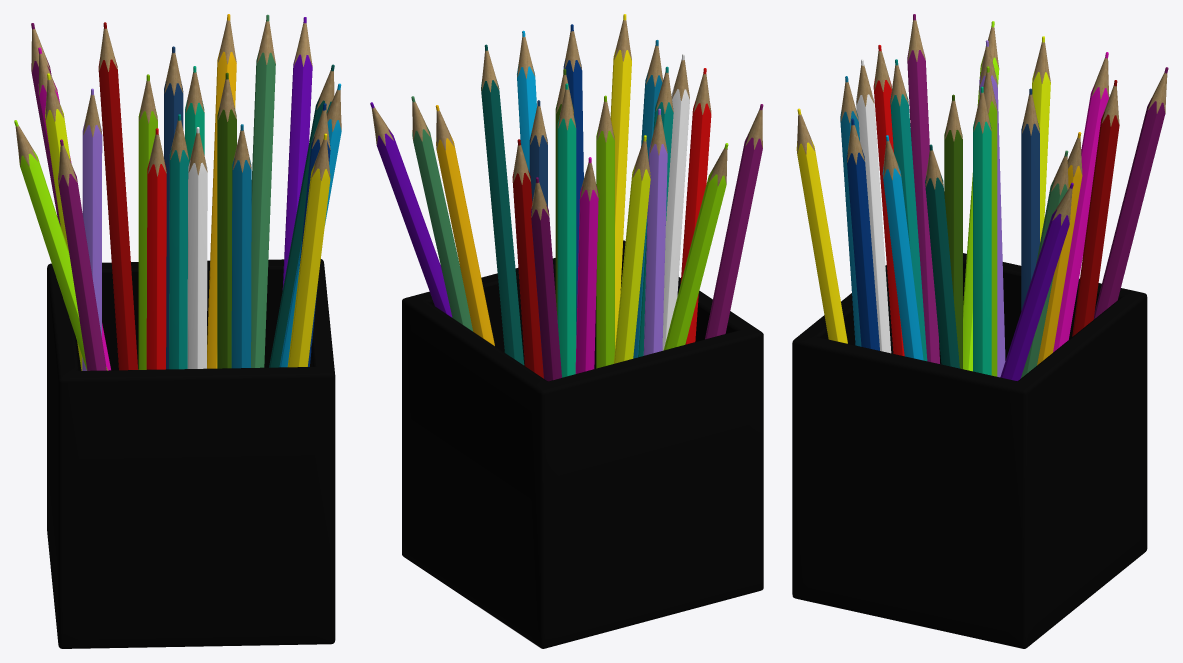
The model's file is colourpencils.fbx.
3 renders of one model, left to right at view 1: azimuth 30°, elevation 25°; view 2: azimuth 150°, elevation 25°; view 3: azimuth 270°, elevation 25°, orthographic. The views are drawn at different scales.
Visible parts, largest first — view 1: pencil_box, pencil_07, pencil_16, pencil_18, pencil_21, pencil_15, pencil_06, pencil_08, pencil_01, pencil_10, pencil_13, pencil_04 (+11 smaller); view 2: pencil_box, pencil_19, pencil_17, pencil_14, pencil_10, pencil_02, pencil_05, pencil_06, pencil_16, pencil_12, pencil_04, pencil_13 (+11 smaller); view 3: pencil_box, pencil_17, pencil_10, pencil_11, pencil_07, pencil_01, pencil_09, pencil_03, pencil_20, pencil_06, pencil_19, pencil_04 (+11 smaller).
Part boxes in pixels (left/top/right/bottom): pencil_box: left=47, top=259, right=335, bottom=648; pencil_07: left=98, top=22, right=138, bottom=370; pencil_16: left=251, top=14, right=275, bottom=367; pencil_18: left=169, top=114, right=188, bottom=369; pencil_21: left=231, top=124, right=251, bottom=368; pencil_15: left=217, top=72, right=236, bottom=368; pencil_06: left=187, top=127, right=207, bottom=368; pencil_08: left=146, top=128, right=166, bottom=369; pencil_01: left=287, top=133, right=330, bottom=367; pencil_10: left=58, top=139, right=106, bottom=370; pencil_13: left=14, top=120, right=107, bottom=370; pencil_04: left=282, top=17, right=312, bottom=289; pencil_box: left=402, top=240, right=763, bottom=648; pencil_19: left=481, top=44, right=524, bottom=365; pencil_17: left=557, top=83, right=576, bottom=377; pencil_14: left=596, top=95, right=614, bottom=368; pencil_10: left=705, top=104, right=763, bottom=339; pencil_02: left=643, top=108, right=667, bottom=355; pencil_05: left=435, top=105, right=494, bottom=345; pencil_06: left=662, top=54, right=689, bottom=350; pencil_16: left=411, top=96, right=472, bottom=331; pencil_12: left=613, top=135, right=650, bottom=363; pencil_04: left=370, top=102, right=452, bottom=317; pencil_13: left=663, top=143, right=728, bottom=350; pencil_box: left=792, top=253, right=1147, bottom=648; pencil_17: left=973, top=86, right=991, bottom=375; pencil_10: left=907, top=14, right=939, bottom=363; pencil_11: left=1093, top=67, right=1168, bottom=319; pencil_07: left=1072, top=80, right=1119, bottom=336; pencil_01: left=796, top=108, right=847, bottom=343; pencil_09: left=1053, top=52, right=1109, bottom=352; pencil_03: left=846, top=118, right=879, bottom=350; pencil_20: left=882, top=135, right=923, bottom=360; pencil_06: left=856, top=59, right=891, bottom=353; pencil_19: left=925, top=144, right=959, bottom=368; pencil_04: left=1000, top=182, right=1073, bottom=380.
Size of what is drawn, in the model's own units: 12.24 by 18.08 by 12.49.
Materials: 23 (22 with a texture image).
